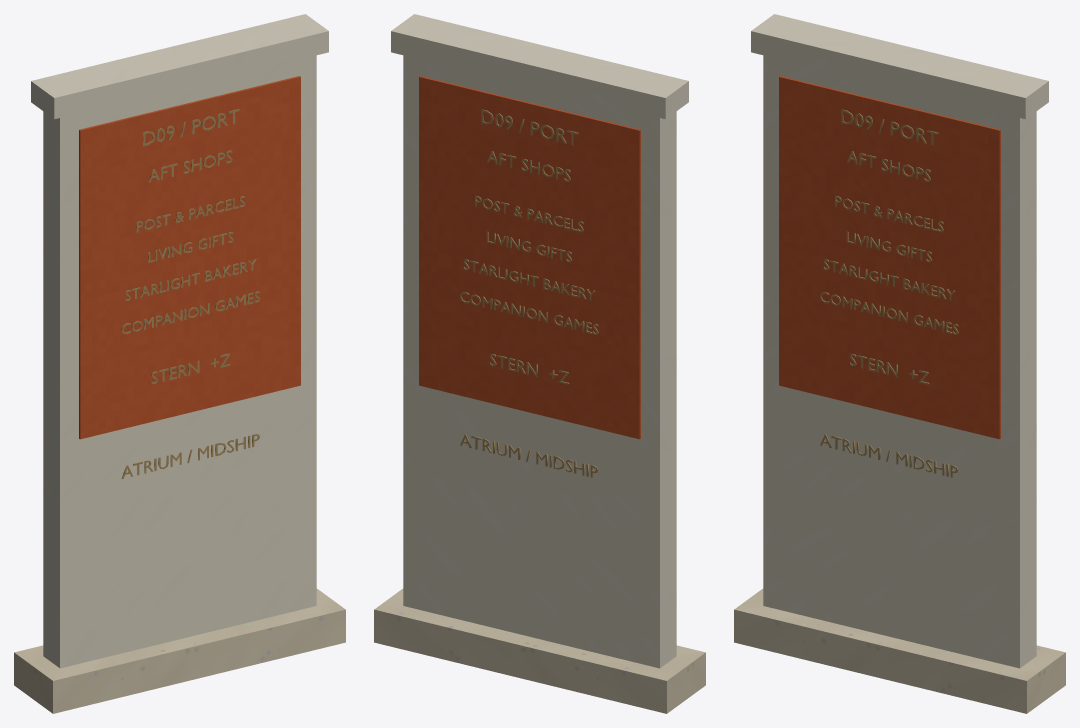
The model's file is guide_port_aft_r002.glb.
3 renders of one model, left to right at view 1: azimuth 30°, elevation 25°; view 2: azimuth 150°, elevation 25°; view 3: azimuth 330°, elevation 25°, orthographic.
Visible parts, largest first — view 1: profiled_column, recessed_orange_directory, weighted_plinth, crown, atrium, venue_3, venue_2, venue_0, heading, district, venue_1; view 2: profiled_column, recessed_orange_directory_back, weighted_plinth, crown, atrium_back, venue_3_back, venue_2_back, heading_back, venue_0_back, venue_1_back, district_back; view 3: profiled_column, recessed_orange_directory, weighted_plinth, crown, atrium, venue_3, venue_2, heading, venue_0, venue_1, district.
Part boxes in pixels (<box>): profiled_column: <box>43,55,316,668</box>; recessed_orange_directory: <box>79,76,300,439</box>; weighted_plinth: <box>14,588,345,713</box>; crown: <box>31,14,328,119</box>; atrium: <box>121,434,259,478</box>; venue_3: <box>121,291,260,334</box>; venue_2: <box>125,258,256,300</box>; venue_0: <box>136,196,245,232</box>; heading: <box>143,109,239,146</box>; district: <box>148,150,232,182</box>; venue_1: <box>148,232,233,262</box>; profiled_column: <box>403,55,676,668</box>; recessed_orange_directory_back: <box>419,76,640,439</box>; weighted_plinth: <box>374,588,705,713</box>; crown: <box>391,14,688,119</box>; atrium_back: <box>460,434,598,477</box>; venue_3_back: <box>460,292,598,334</box>; venue_2_back: <box>463,259,594,300</box>; heading_back: <box>481,109,578,145</box>; venue_0_back: <box>475,195,583,232</box>; venue_1_back: <box>486,231,571,262</box>; district_back: <box>487,151,570,181</box>; profiled_column: <box>763,55,1036,668</box>; recessed_orange_directory: <box>779,76,1000,439</box>; weighted_plinth: <box>734,588,1065,713</box>; crown: <box>751,14,1048,119</box>; atrium: <box>820,434,958,477</box>; venue_3: <box>820,292,958,334</box>; venue_2: <box>823,259,954,300</box>; heading: <box>841,109,938,145</box>; venue_0: <box>835,195,943,232</box>; venue_1: <box>846,231,931,262</box>; district: <box>847,151,930,181</box>.
Bounding box in the file's own units: 1.3 × 2.58 × 0.3.
Materials: 4 (4 with a texture image).
